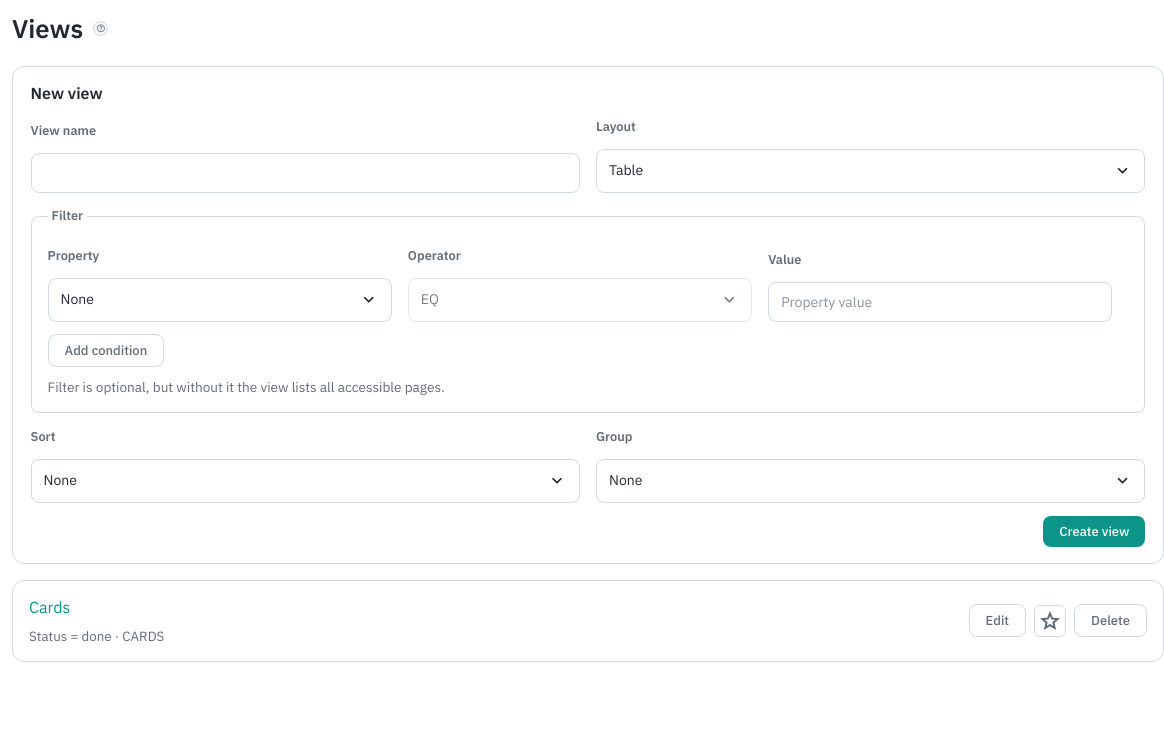
ViewsPage › edits a view through the shared form with optimistic locking and supports cancel
Click the button with test id "edit-view-cards" at (997, 621), box [969, 604, 1026, 638]
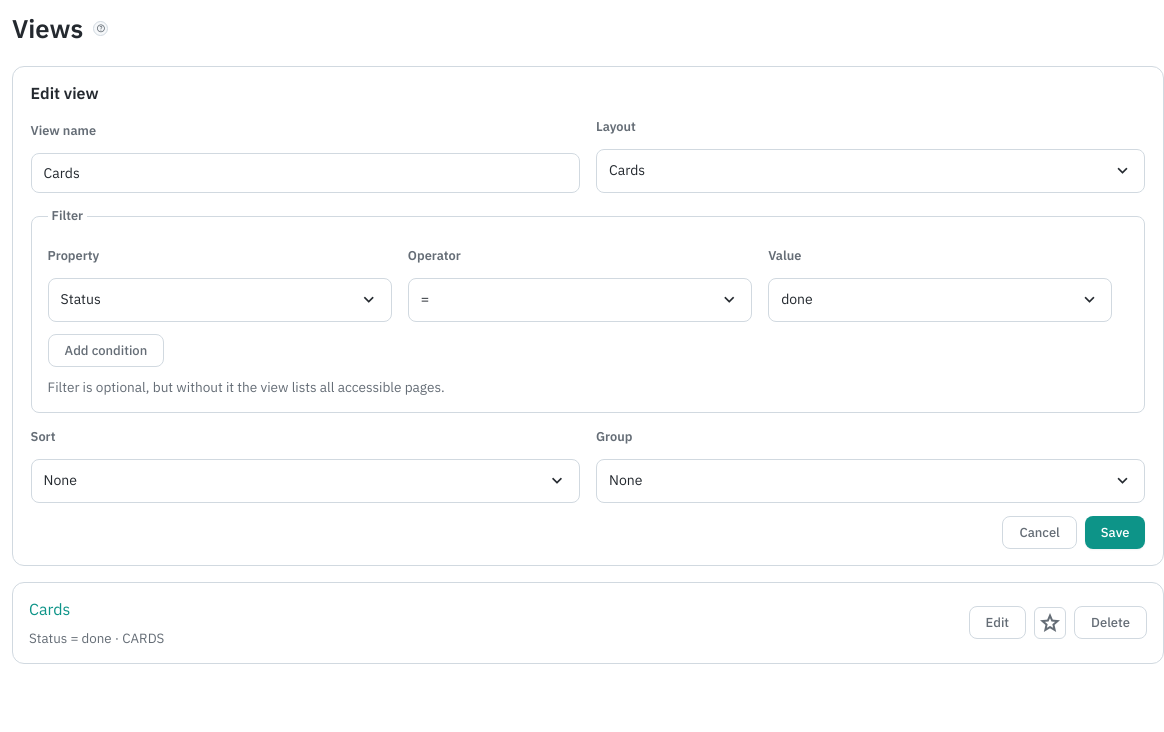
expect the field with test id "view-name" holds "Cards": met
Replace the text in the field with test id "view-name" with "Updated cards" at (305, 173), box [31, 153, 580, 193]
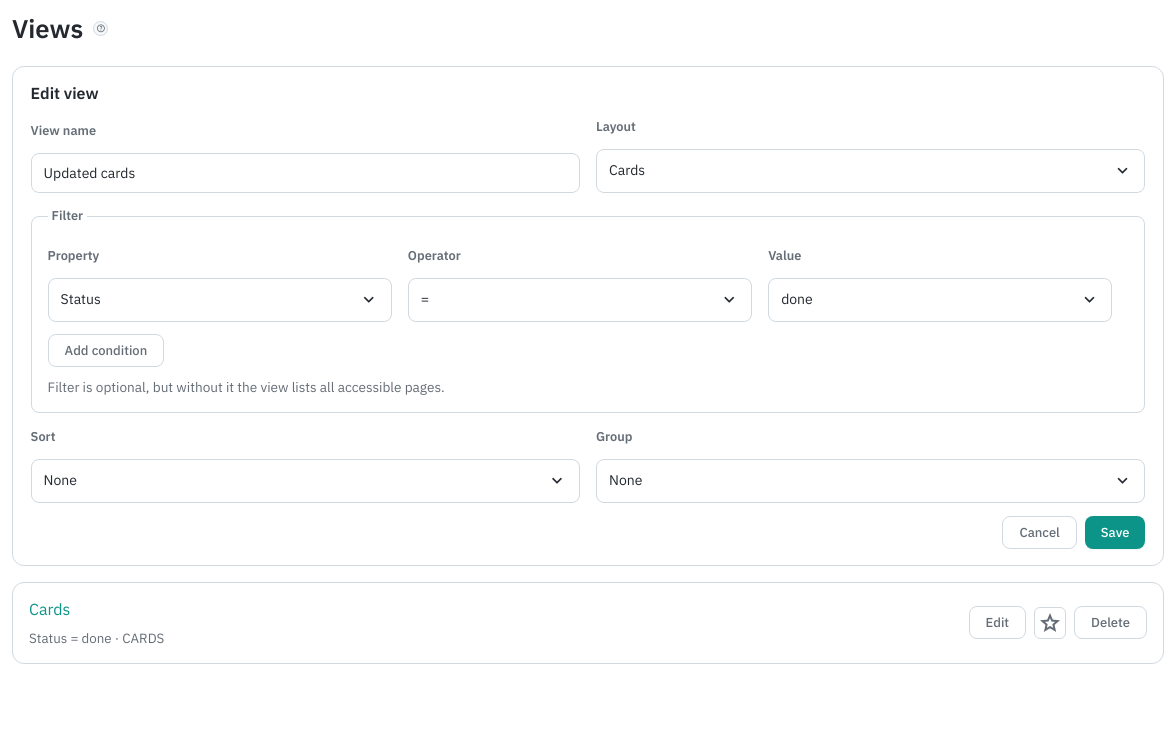
Submit the form with class "create-form", box [31, 117, 1145, 549]
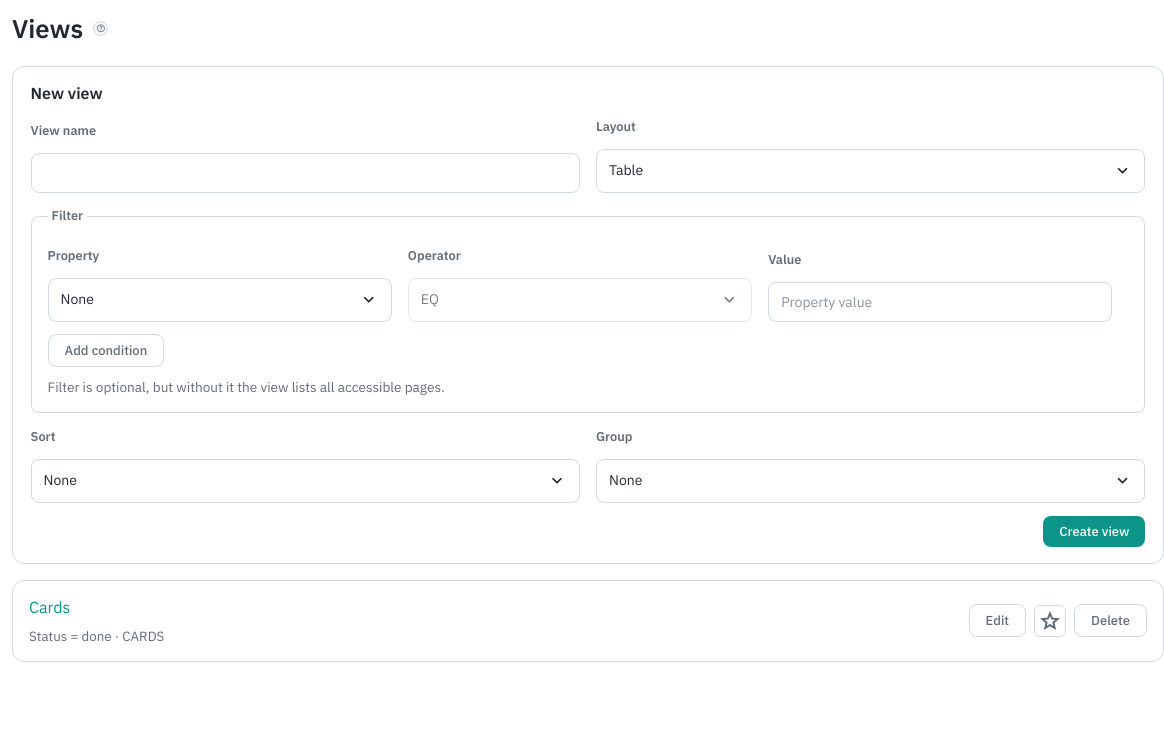
expect the field with test id "view-name" is empty: met, box [31, 153, 580, 193]
Click the button with test id "edit-view-cards" at (997, 621), box [969, 604, 1026, 638]
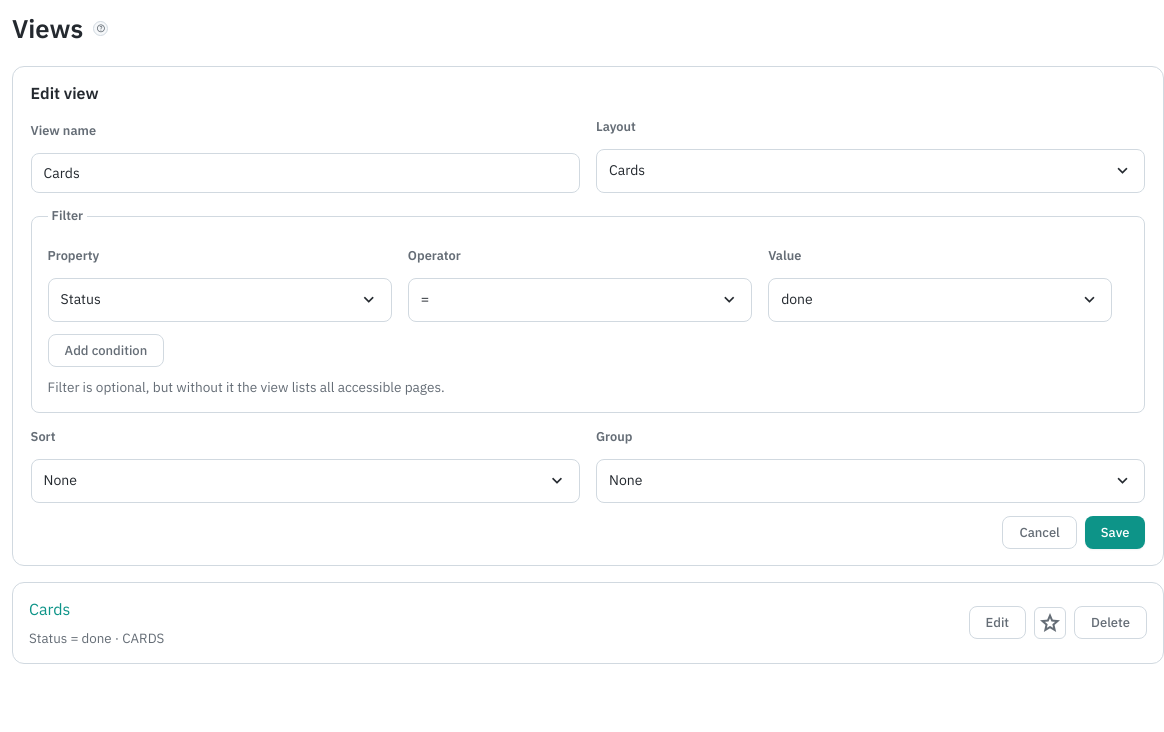
Click the button with test id "cancel-edit" at (1040, 533), box [1002, 516, 1077, 549]
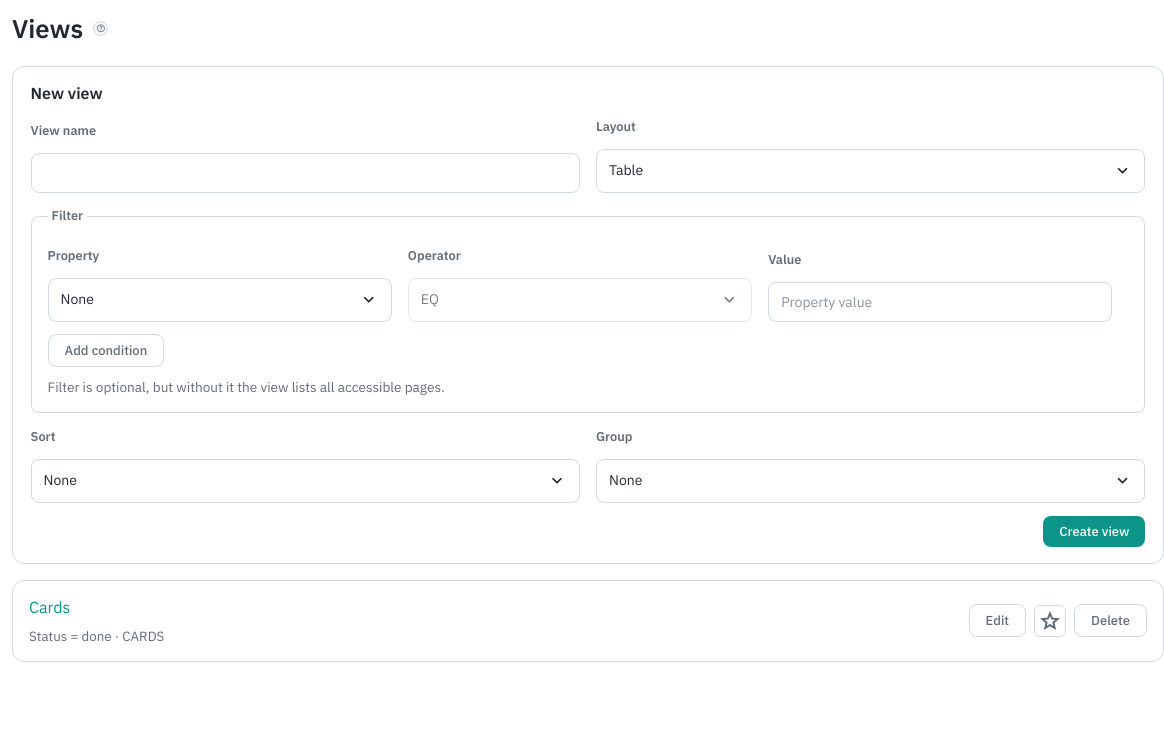
expect the field with test id "view-name" is empty: met, box [31, 153, 580, 193]
